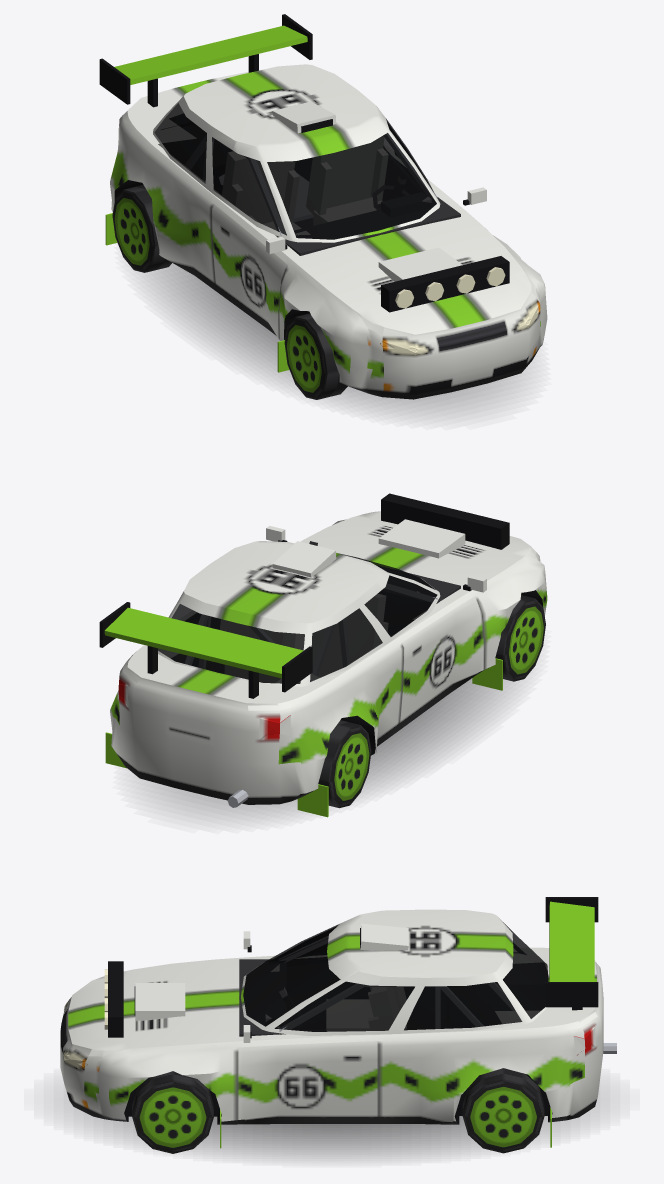
File: terral.glb
The picture shows the model from 3 angles, top to bottom: view 1: azimuth 30°, elevation 25°; view 2: azimuth 150°, elevation 25°; view 3: azimuth 270°, elevation 25°; orthographic projection. The views are drawn at different scales.
Parts seen in each view (by area): view 1: Carroceria, Interior, Capo_malha, Sombra, Porta_D_malha, Tampa_malha, Roda_DD, Roda_TD, Porta_E_malha, Farol; view 2: Carroceria, Capo_malha, Porta_D_malha, Sombra, Tampa_malha, Interior, Roda_TD, Roda_DD, Lanterna; view 3: Carroceria, Porta_E_malha, Interior, Capo_malha, Sombra, Roda_TE, Roda_DE, Tampa_malha, Porta_D_malha.
Part boxes in pixels (box(x1,y1,x2,y2)): Carroceria: box(99, 14, 547, 399); Interior: box(163, 114, 460, 255); Capo_malha: box(306, 224, 536, 334); Sombra: box(145, 263, 525, 415); Porta_D_malha: box(211, 141, 292, 338); Tampa_malha: box(114, 25, 307, 122); Roda_DD: box(284, 313, 347, 399); Roda_TD: box(112, 185, 171, 272); Porta_E_malha: box(377, 107, 486, 205); Farol: box(380, 303, 540, 355); Carroceria: box(99, 517, 547, 817); Capo_malha: box(307, 493, 536, 581); Porta_D_malha: box(377, 571, 486, 722); Sombra: box(141, 679, 516, 819); Tampa_malha: box(104, 607, 303, 710); Interior: box(171, 541, 460, 682); Roda_TD: box(318, 720, 371, 808); Roda_DD: box(495, 595, 545, 681); Lanterna: box(118, 680, 290, 739); Carroceria: box(60, 897, 616, 1148); Porta_E_malha: box(236, 971, 379, 1120); Interior: box(239, 936, 547, 1036); Capo_malha: box(73, 961, 220, 1056); Sombra: box(63, 1086, 600, 1158); Roda_TE: box(462, 1068, 544, 1153); Roda_DE: box(132, 1071, 213, 1153); Tampa_malha: box(549, 901, 597, 1030); Porta_D_malha: box(243, 927, 335, 961).
Size of the model in its own units: 2.52 by 1.42 by 4.81.
Materials: 14 (5 with a texture image).
